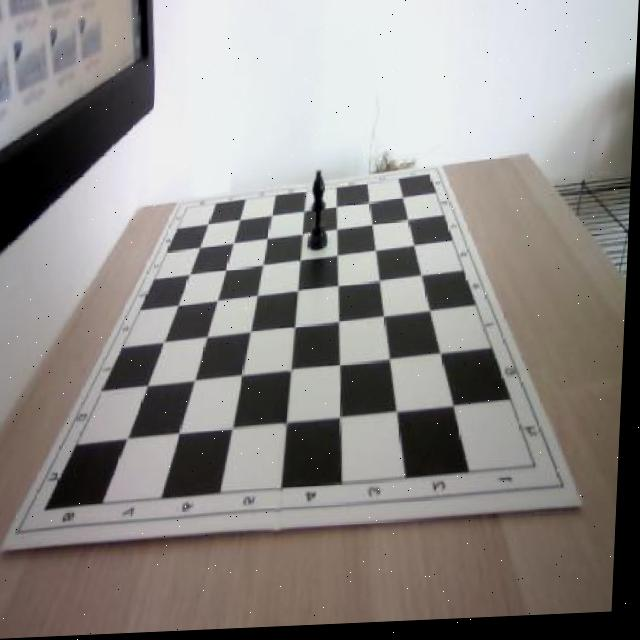bishop: (308, 169, 334, 256)
